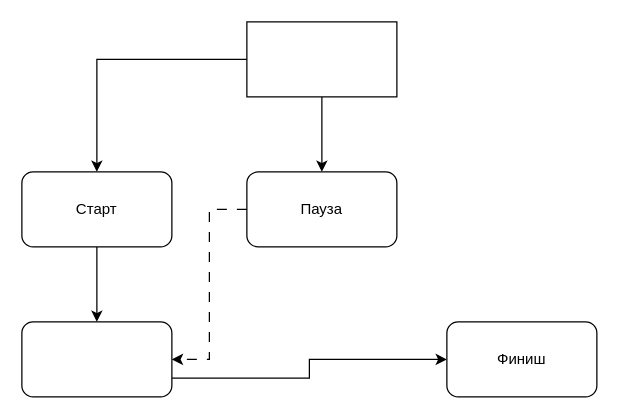
Image size: 619x419. Some labels were removed from this diagram. The centre of each missing label's shape, as x and y in pixels:
"В процессе" belongs at (96,359).
"Игровая сцена" belongs at (321,59).
